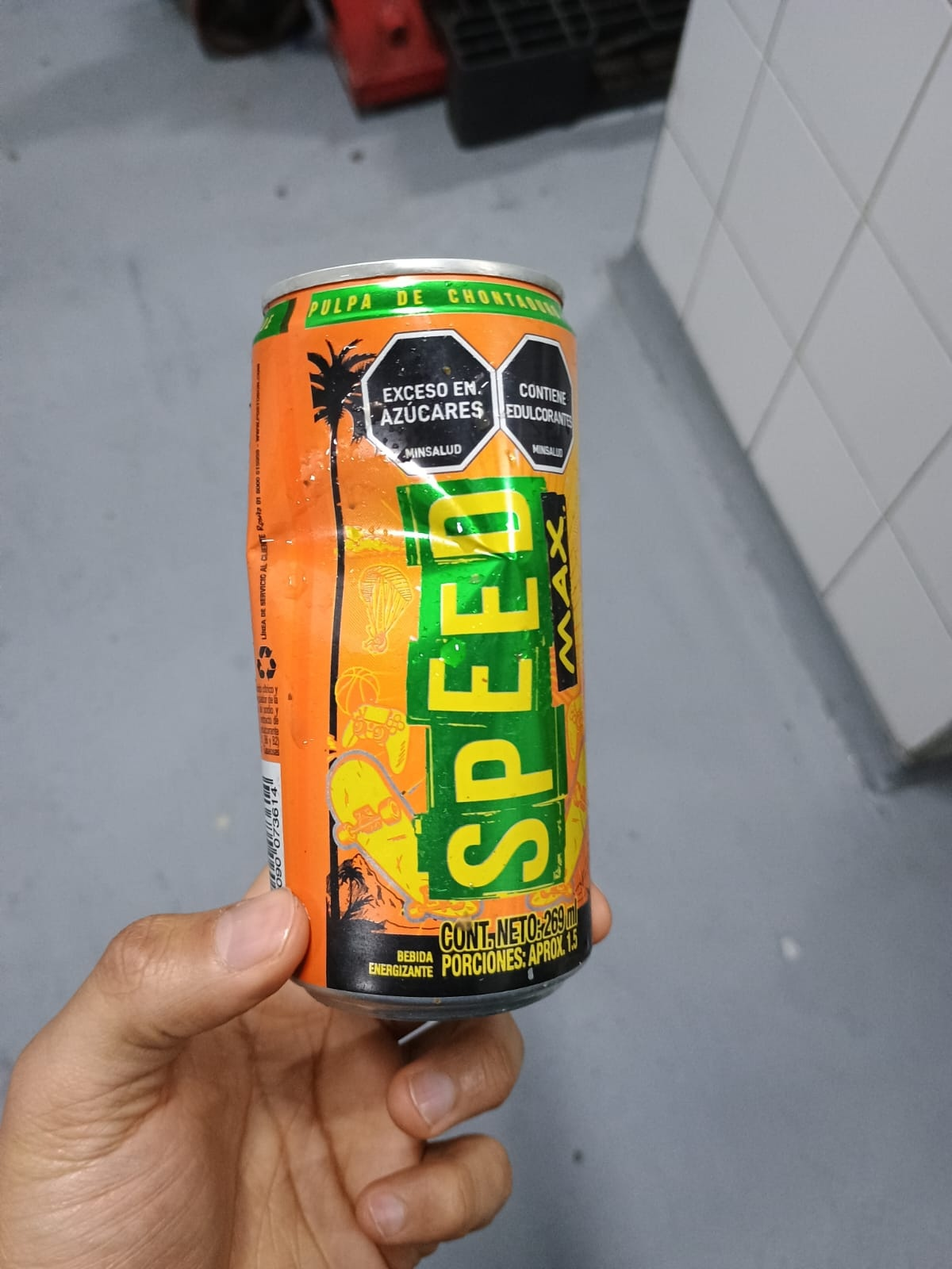Metal: (250, 258, 591, 1016)
